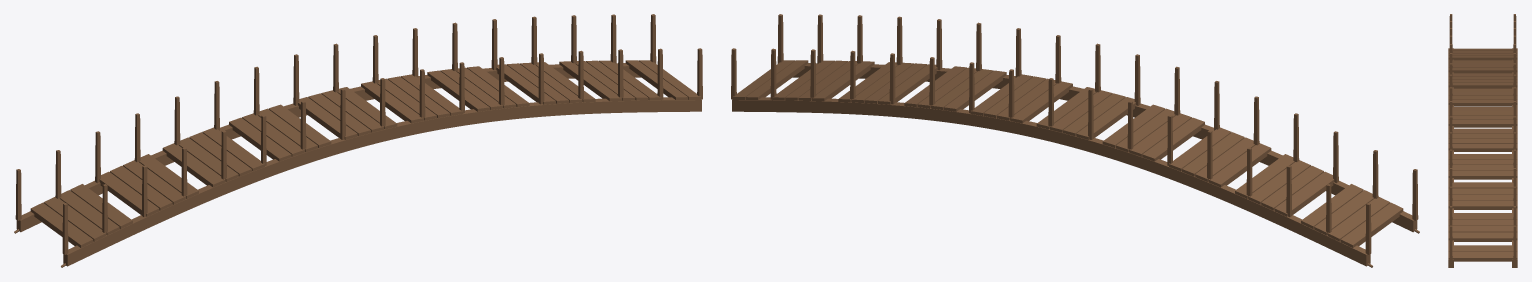
The model's file is footbridge--bridge-timber.glb.
3 renders of one model, left to right at view 1: azimuth 30°, elevation 25°; view 2: azimuth 150°, elevation 25°; view 3: azimuth 270°, elevation 25°, orthographic. The views are drawn at different scales.
Visible parts, largest first — view 1: footbridge; view 2: footbridge; view 3: footbridge.
Boxes of the visible parts, x1,y1,x2,y2 form: footbridge: (14,14,702,267); footbridge: (731,14,1419,267); footbridge: (1448,14,1517,267).
Bounding box in the file's own units: 16.16 × 2.67 × 2.22.
